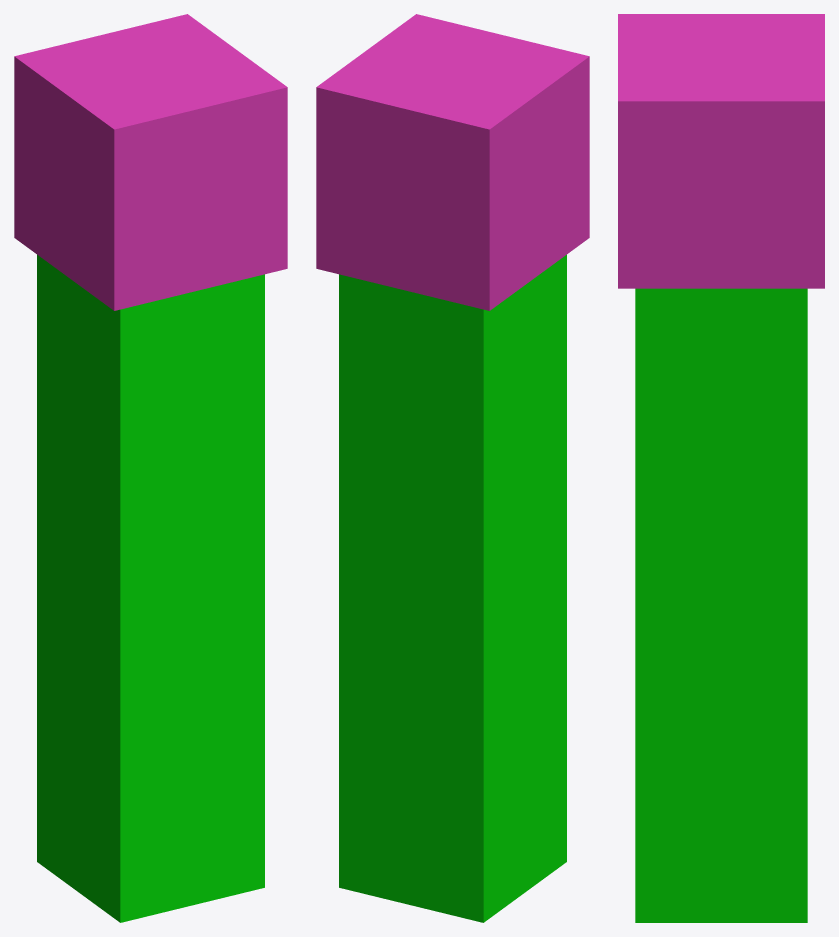
Rendered from Pillar.fbx.
3 renders of one model, left to right at view 1: azimuth 30°, elevation 25°; view 2: azimuth 150°, elevation 25°; view 3: azimuth 270°, elevation 25°, orthographic. The views are drawn at different scales.
Visible parts, largest first — view 1: Cube.001; view 2: Cube.001; view 3: Cube.001.
Part boxes in pixels (x1,y1,x2,y2): Cube.001: (14,14,287,922); Cube.001: (316,14,589,922); Cube.001: (618,14,824,922).
Bounding box in the file's own units: 240 × 1063 × 240.
